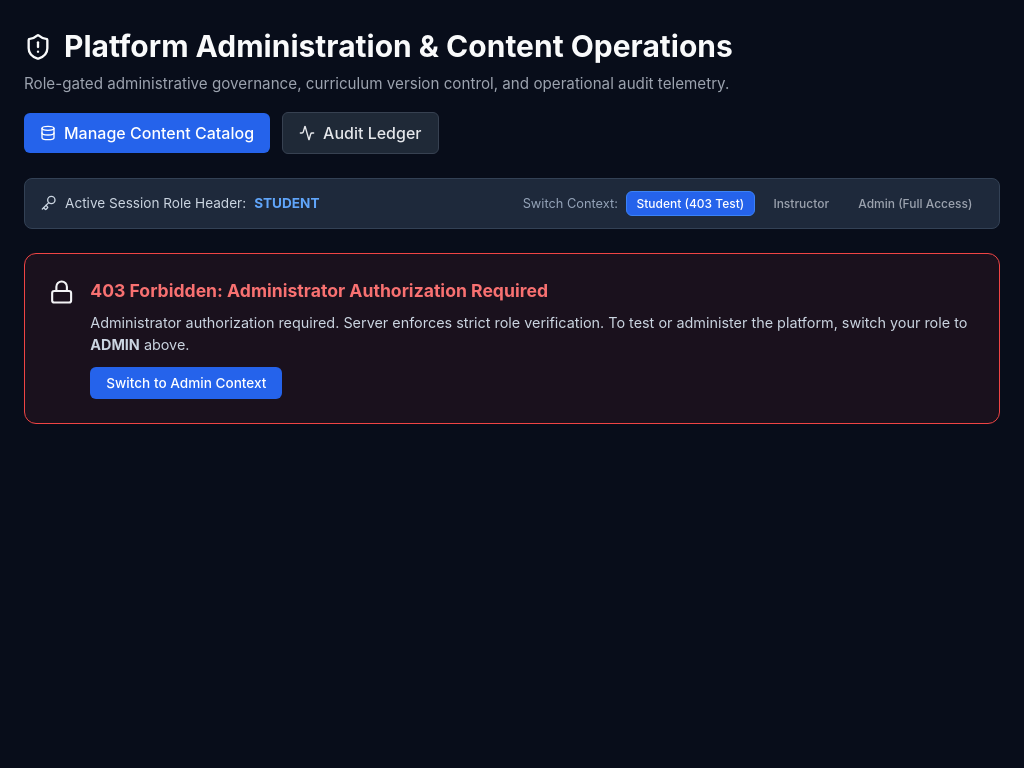
Scenario: Step 20: Analytics, Skill Assessment, Portfolio & Admin UI › renders AdminDashboardPage with metrics and shows 403 authorization alert for students
Check: the text "Platform Administration & Content Operations" is shown, box top-left (64, 24), bottom-right (733, 69)
Check: the heading "403 Forbidden: Administrator Authorization Required" is shown, box top-left (90, 280), bottom-right (548, 301)
Click the button "Admin (Full Access)". click: [915, 203]
box: top-left (848, 191), bottom-right (983, 216)
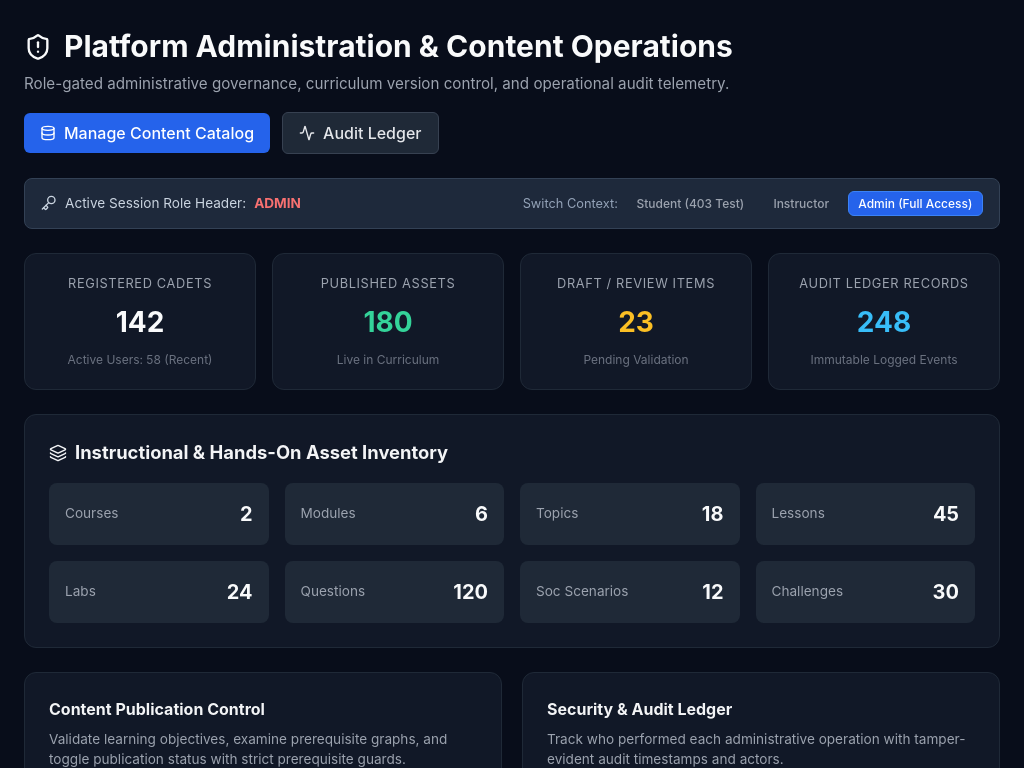
Check: the text "142" is shown, box top-left (116, 301), bottom-right (164, 343)
Check: the text "Registered Cadets" is shown, box top-left (68, 274), bottom-right (212, 293)
Check: the text "Published Assets" is shown, box top-left (321, 274), bottom-right (455, 293)
